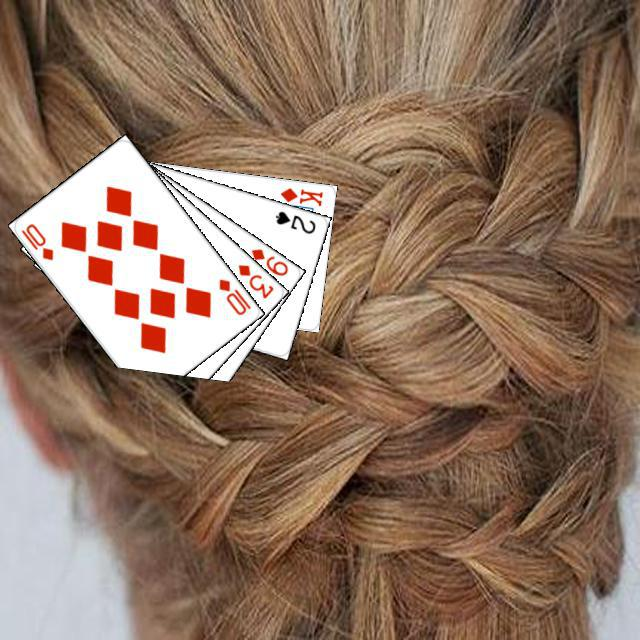10d: (214, 273, 253, 317), (16, 219, 55, 262)
2s: (270, 206, 317, 235)
3d: (233, 259, 275, 300)
9d: (246, 243, 290, 278)
Kd: (275, 183, 324, 208)
